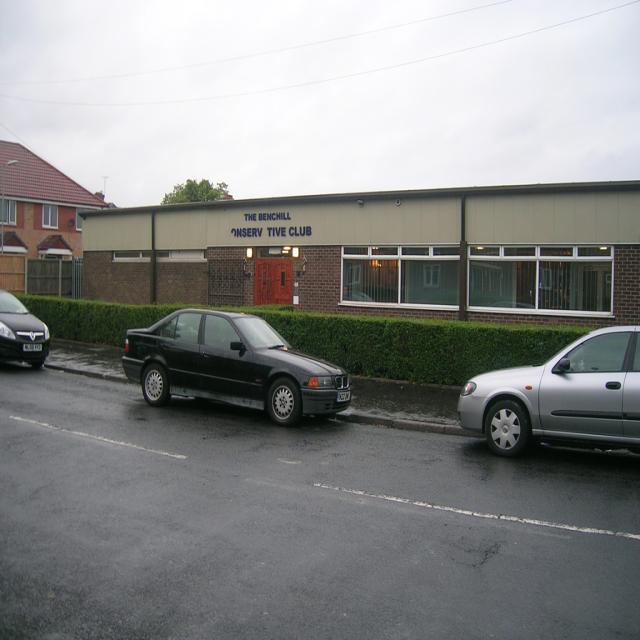car: (120, 306, 354, 426)
